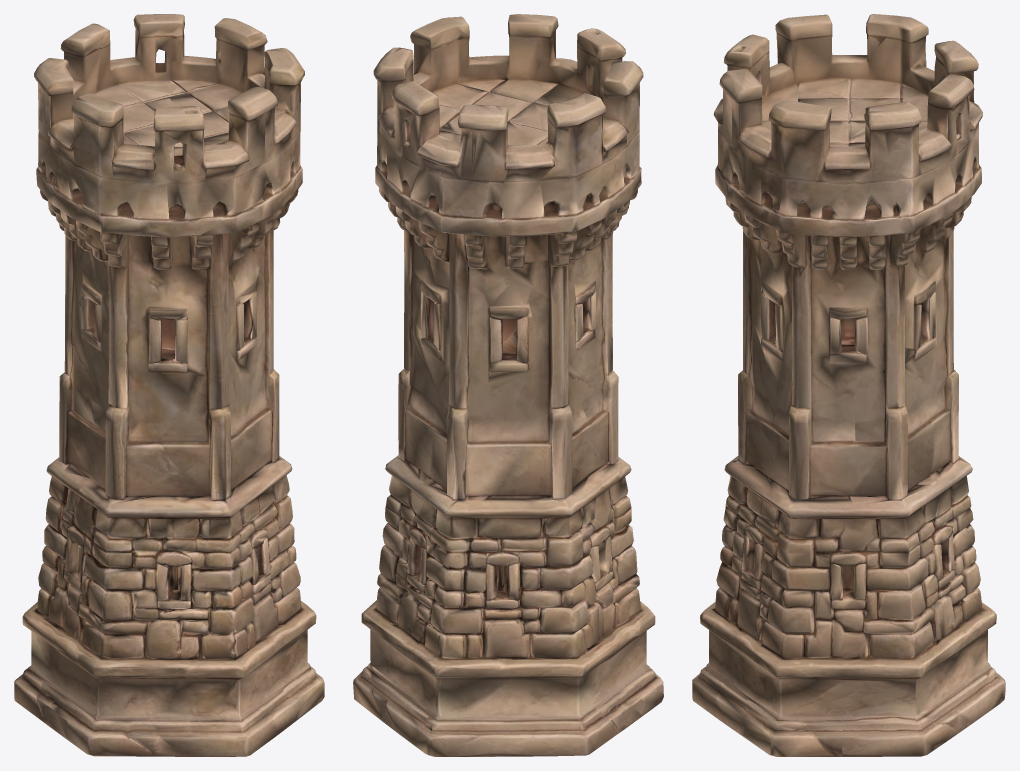
The model's file is tower-movil.glb.
The picture shows the model from 3 angles, left to right: view 1: azimuth 30°, elevation 25°; view 2: azimuth 150°, elevation 25°; view 3: azimuth 270°, elevation 25°; orthographic projection.
Parts seen in each view (by area): view 1: tripo_node_849bfb36-b7ca-425f-8ca3-46bc67007900; view 2: tripo_node_849bfb36-b7ca-425f-8ca3-46bc67007900; view 3: tripo_node_849bfb36-b7ca-425f-8ca3-46bc67007900.
Part boxes in pixels (<box>): tripo_node_849bfb36-b7ca-425f-8ca3-46bc67007900: <box>14,14,324,756</box>; tripo_node_849bfb36-b7ca-425f-8ca3-46bc67007900: <box>353,14,663,756</box>; tripo_node_849bfb36-b7ca-425f-8ca3-46bc67007900: <box>692,14,1005,756</box>.
Bounding box in the file's own units: 0.3807 × 0.9797 × 0.437.
Materials: 1 (1 with a texture image).
